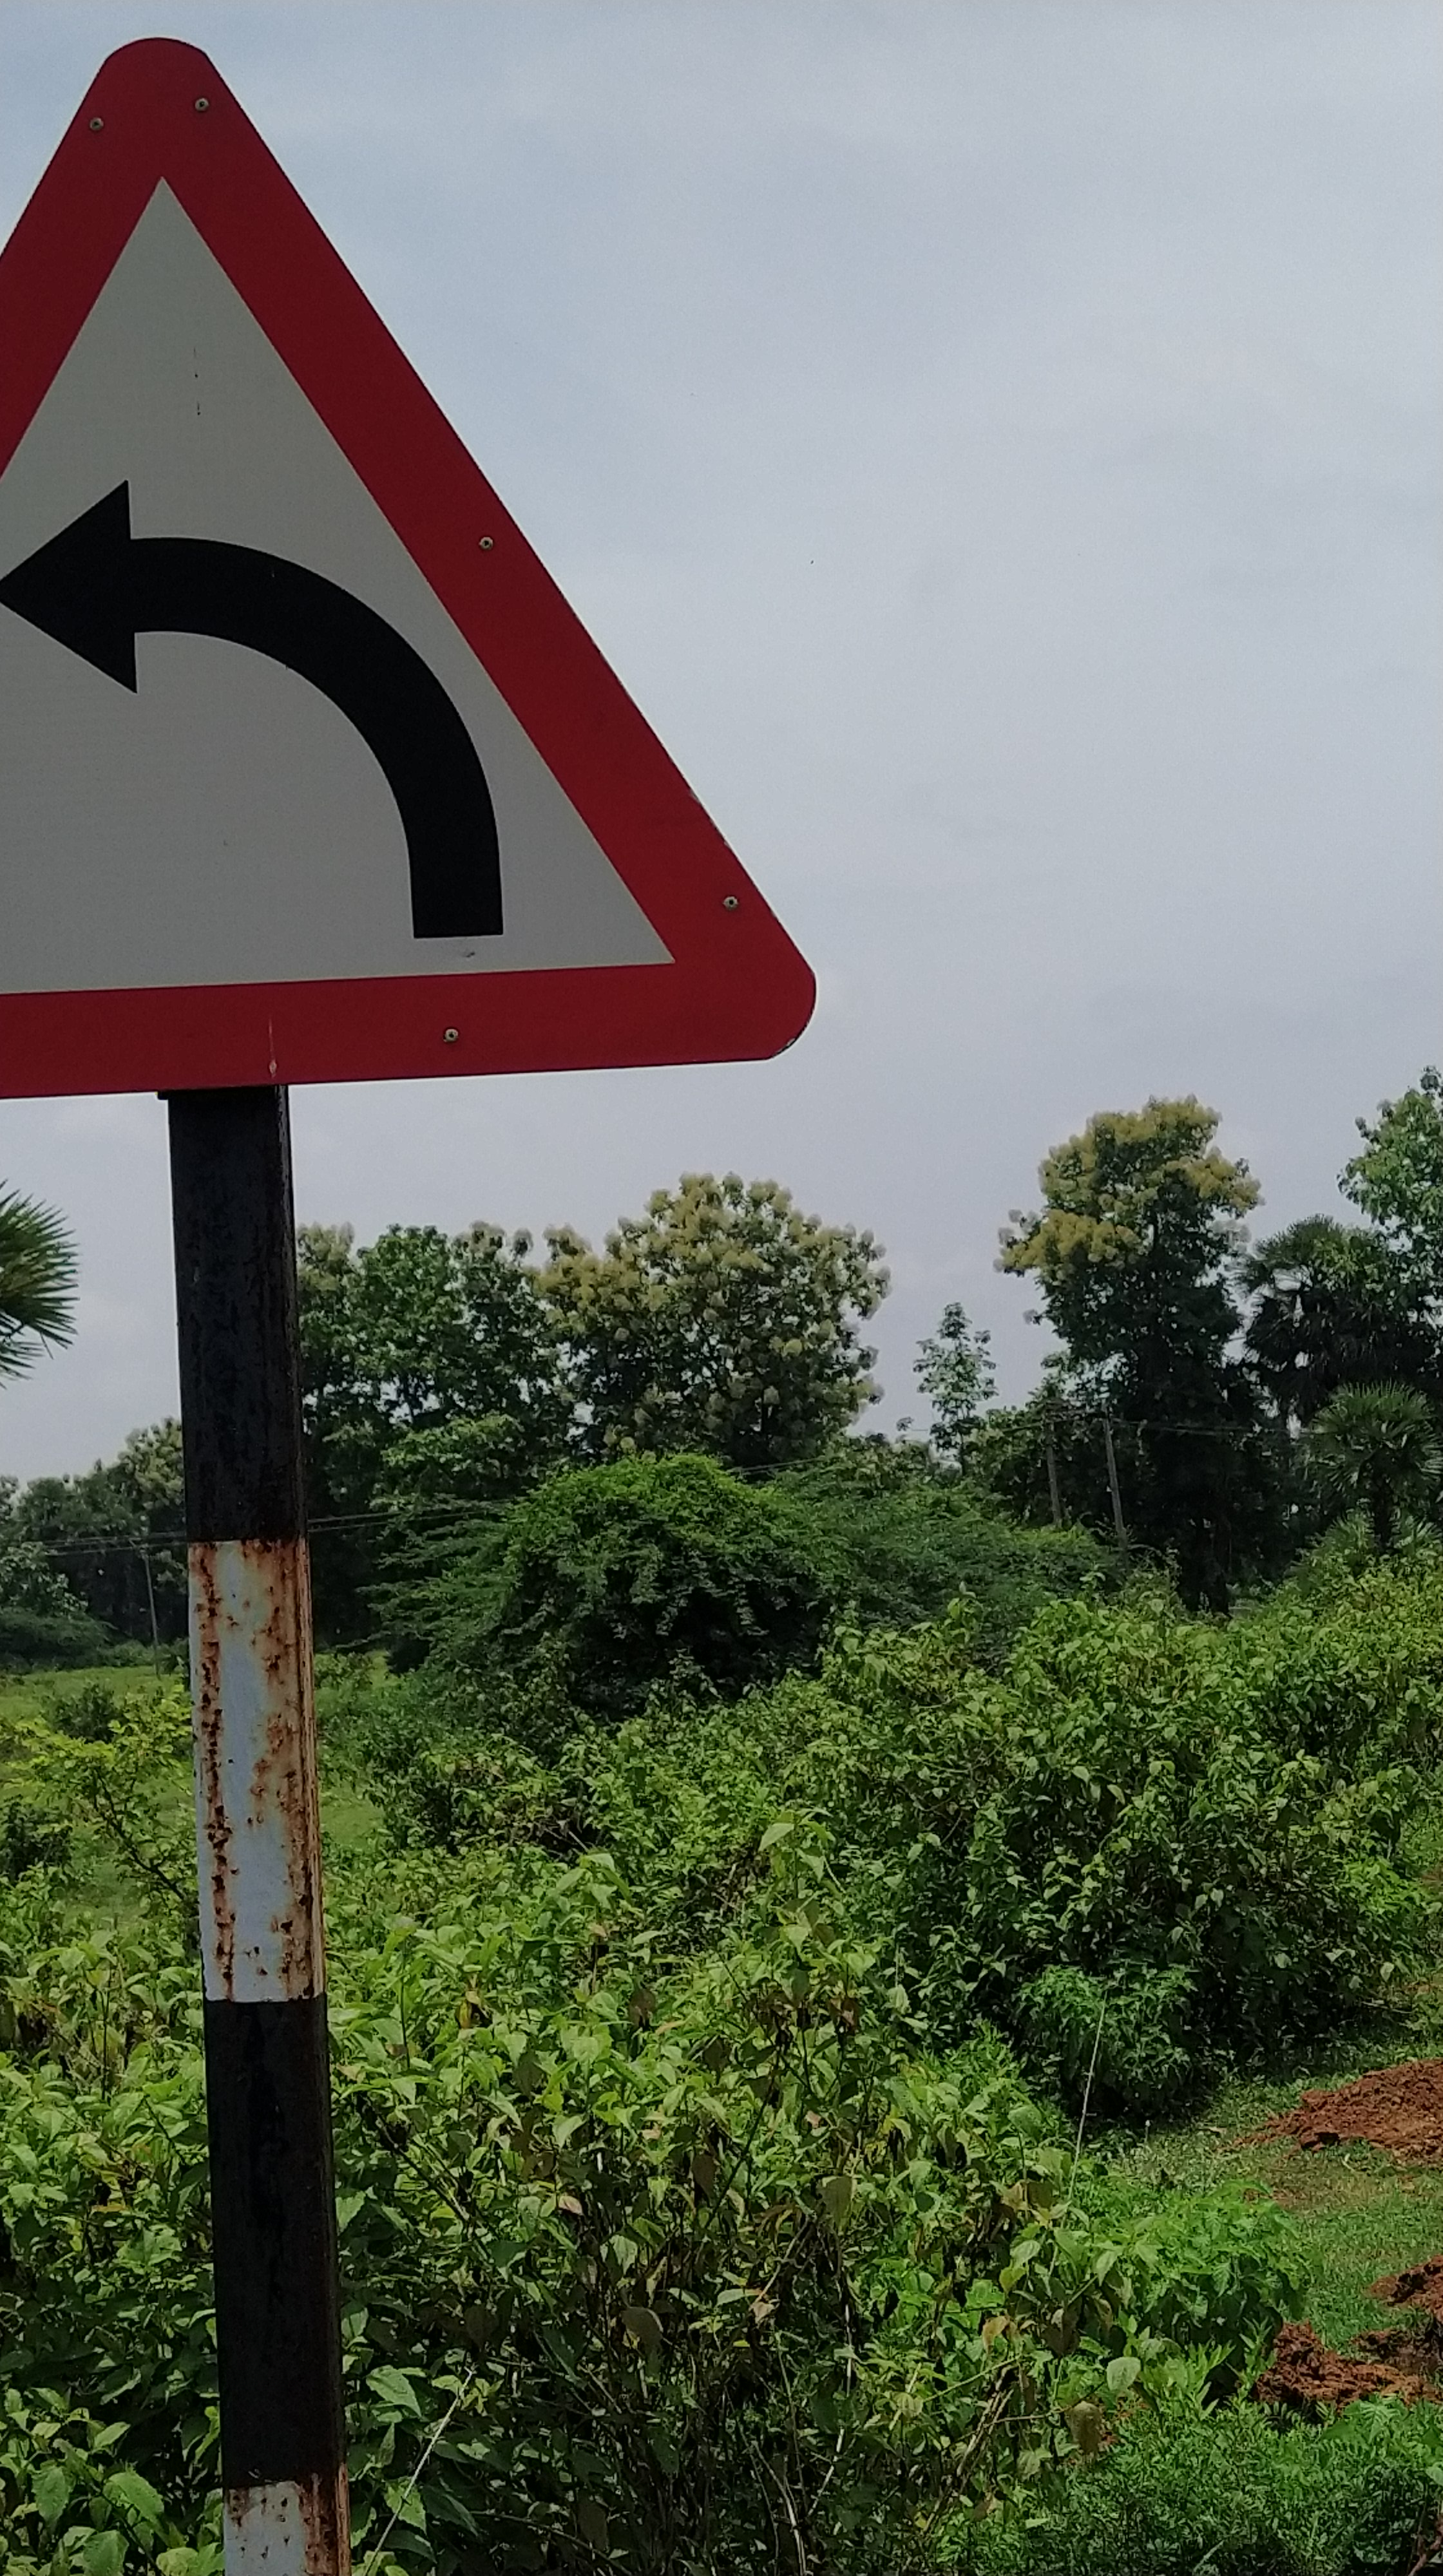Turn left: (2, 34, 836, 1138)
